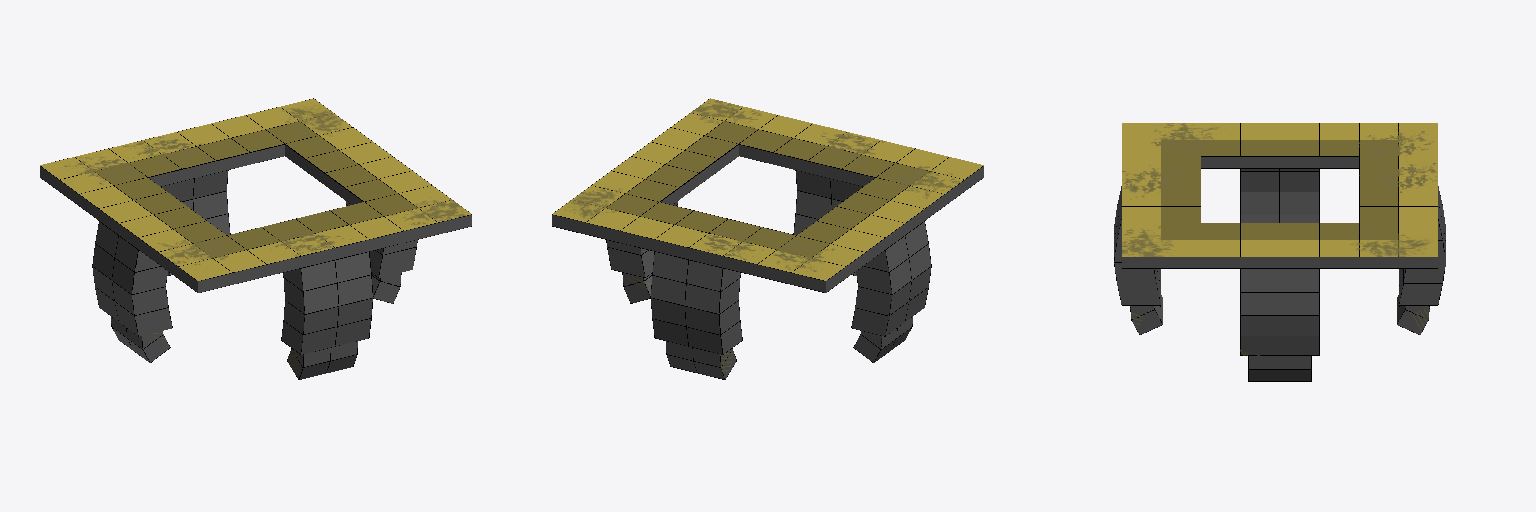
3 renders of one model, left to right at view 1: azimuth 30°, elevation 25°; view 2: azimuth 150°, elevation 25°; view 3: azimuth 270°, elevation 25°, orthographic.
Parts seen in each view (by area): view 1: crane_bot_Cube.017; view 2: crane_bot_Cube.017; view 3: crane_bot_Cube.017.
Boxes of the visible parts, x1,y1,x2,y2 form: crane_bot_Cube.017: [40, 98, 471, 379]; crane_bot_Cube.017: [552, 98, 983, 379]; crane_bot_Cube.017: [1114, 123, 1445, 381].
Size of the model in its own units: 2.1 by 0.9236 by 2.1.
Materials: 1 (1 with a texture image).